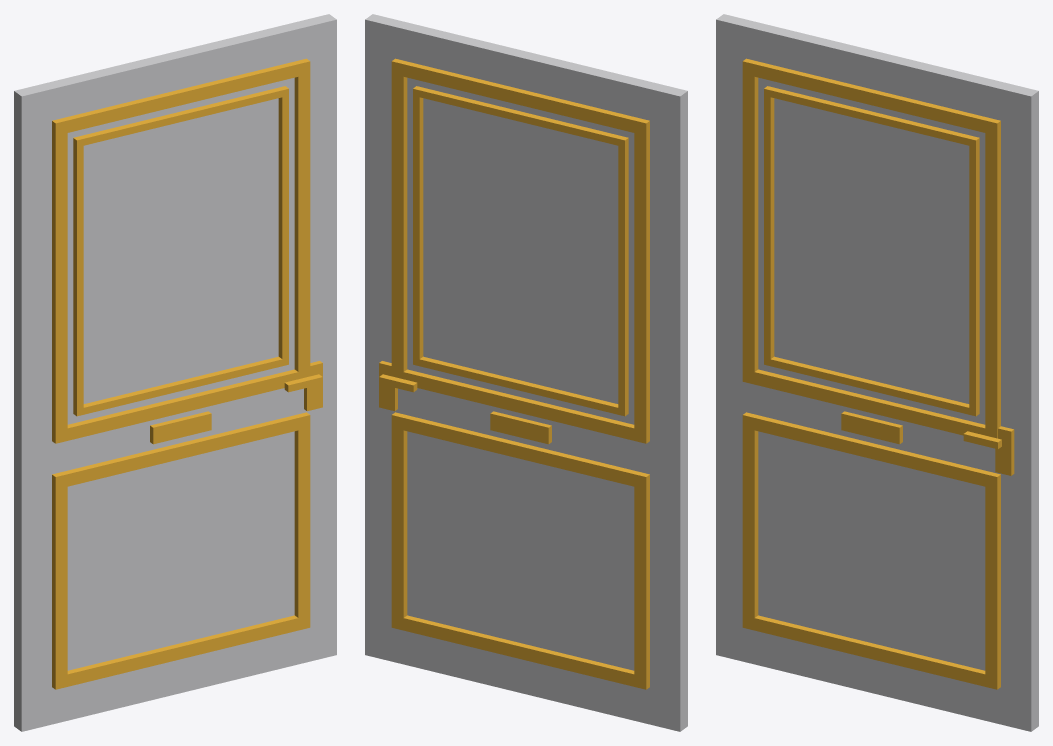
File: SM_Door_obelisk_inner_120x230.fbx
The picture shows the model from 3 angles, left to right: view 1: azimuth 30°, elevation 25°; view 2: azimuth 150°, elevation 25°; view 3: azimuth 330°, elevation 25°; orthographic projection.
Visible parts, largest first — view 1: SM_Door_obelisk_inner_120x230; view 2: SM_Door_obelisk_inner_120x230; view 3: SM_Door_obelisk_inner_120x230.
Part boxes in pixels (x1,y1,x2,y2): SM_Door_obelisk_inner_120x230: (14, 14, 336, 731); SM_Door_obelisk_inner_120x230: (365, 14, 687, 731); SM_Door_obelisk_inner_120x230: (716, 14, 1038, 731).
Bounding box in the file's own units: 1.19 × 2.29 × 0.175.
